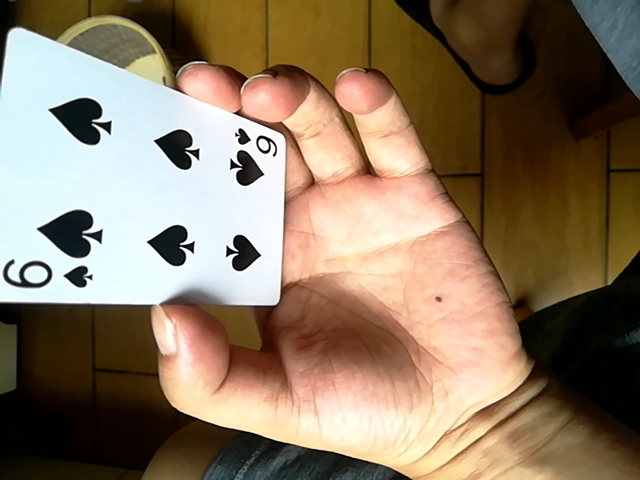ht 6: (2, 32, 288, 314)
